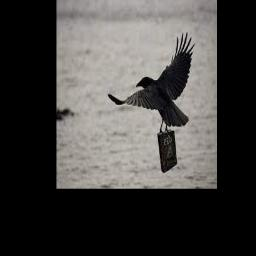Crow: (107, 31, 195, 132)
